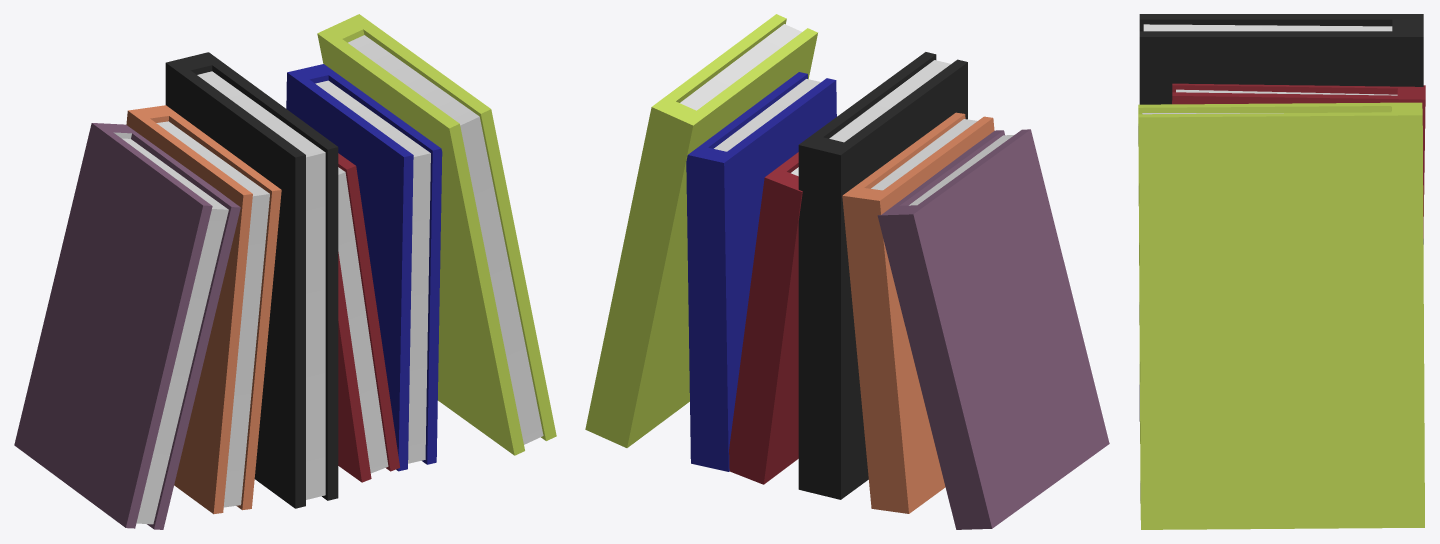
Rendered from Books.fbx.
3 views of the same model, side by side, from view 1: azimuth 30°, elevation 25°; view 2: azimuth 150°, elevation 25°; view 3: azimuth 270°, elevation 25° (orthographic). The views are drawn at different scales.
Visible parts, largest first — view 1: Book4; view 2: Book4; view 3: Book4.
Part boxes in pixels (x1,y1,x2,y2): Book4: (14, 14, 556, 529); Book4: (585, 14, 1109, 529); Book4: (1138, 14, 1425, 529).
Size of the model in its own units: 250 by 204 by 135.
